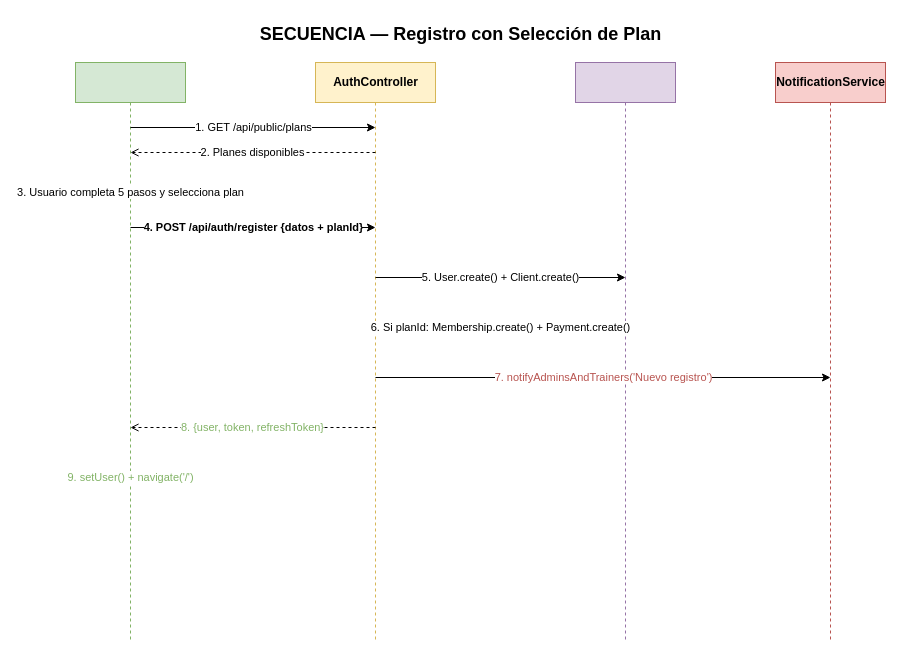
The diagram is 903 pixels wide and 660 high, and some of its shapes have lost their labels. The shapes that lost their labels are listed below. From the top down, each one's box as (x1, y1, x2, y2) in pixels, then its label:
(74, 62, 186, 642): Frontend (Register.jsx)
(574, 62, 676, 642): MongoDB (Models)
